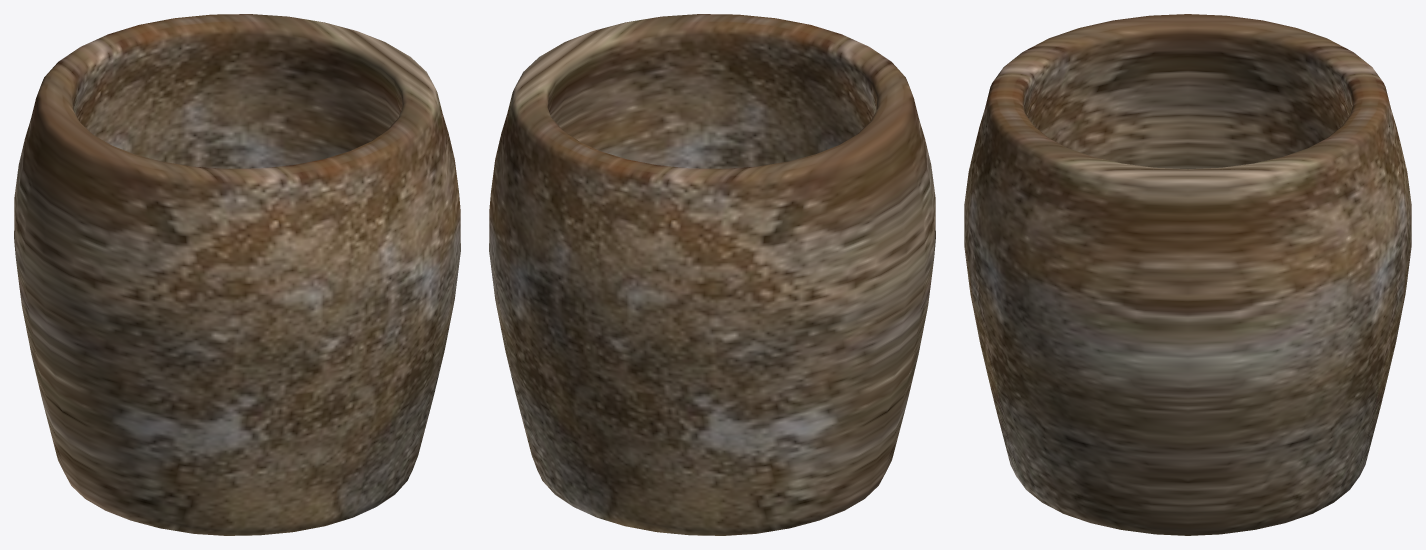
File: Vet.fbx
3 renders of one model, left to right at view 1: azimuth 30°, elevation 25°; view 2: azimuth 150°, elevation 25°; view 3: azimuth 270°, elevation 25°, orthographic.
Parts seen in each view (by area): view 1: Vet; view 2: Vet; view 3: Vet.
Boxes of the visible parts, x1,y1,x2,y2 form: Vet: (14,14,460,535); Vet: (489,14,935,535); Vet: (964,14,1411,535).
Size of the model in its own units: 0.6571 by 0.5992 by 0.6571.
1 material, 1 textured.
